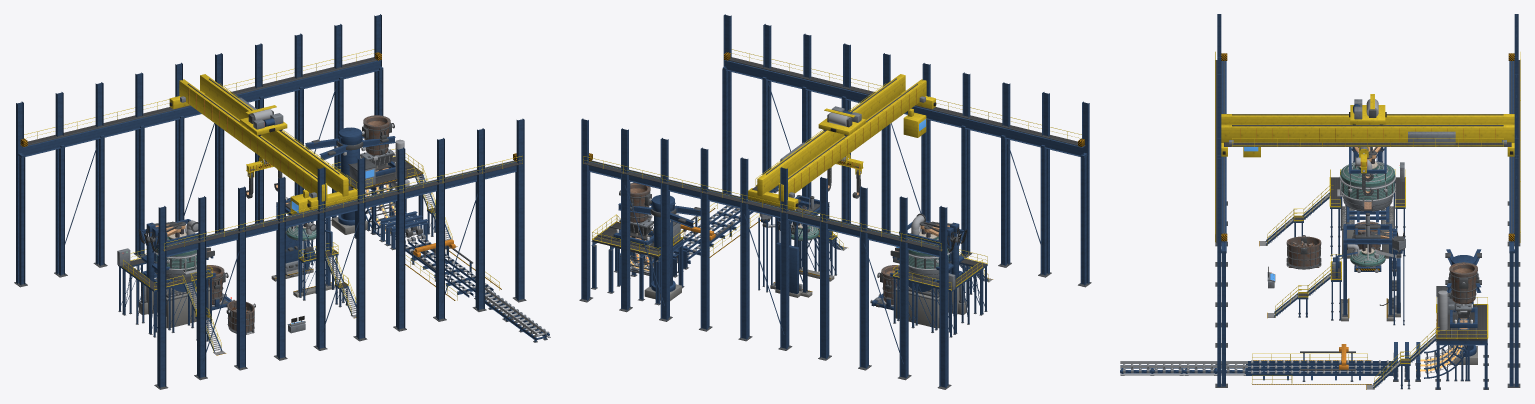
3 renders of one model, left to right at view 1: azimuth 30°, elevation 25°; view 2: azimuth 150°, elevation 25°; view 3: azimuth 270°, elevation 25°, orthographic. The views are drawn at different scales.
Parts seen in each view (by area): view 1: runway_geo, bridge_geo, CCM_geo, platform_geo, LadleFurnace_geo, turret_geo, foundation_geo, roofPivot_geo, tilt_geo, trolley_geo, Ladle_geo.001, Stairs_LF_geo (+5 smaller); view 2: runway_geo, bridge_geo, CCM_geo, LadleFurnace_geo, platform_geo, foundation_geo, roofPivot_geo, tilt_geo, turret_geo, trolley_geo, Ladle_geo.001, cabin_geo (+1 smaller); view 3: bridge_geo, runway_geo, CCM_geo, LadleFurnace_geo, tilt_geo, roofPivot_geo, platform_geo, Ladle_geo.001, ScrapBucket_geo, trolley_geo, RollerTable_geo.001, Stairs_CCM_geo (+7 smaller).
Part boxes in pixels (x1,y1,x2,y2): runway_geo: (14,14,526,389); bridge_geo: (169,74,357,209); CCM_geo: (330,139,501,300); platform_geo: (117,248,212,337); LadleFurnace_geo: (271,189,338,300); turret_geo: (305,127,395,160); foundation_geo: (139,278,212,328); roofPivot_geo: (141,219,206,282); tilt_geo: (141,247,215,291); trolley_geo: (240,105,287,136); Ladle_geo.001: (361,115,394,155); Stairs_LF_geo: (325,247,356,318); runway_geo: (579,14,1091,389); bridge_geo: (748,74,936,210); CCM_geo: (591,203,760,305); LadleFurnace_geo: (758,195,837,297); platform_geo: (893,249,987,337); foundation_geo: (893,283,966,328); roofPivot_geo: (899,213,964,279); tilt_geo: (889,247,964,291); turret_geo: (618,195,700,227); trolley_geo: (818,106,865,136); Ladle_geo.001: (619,182,651,223); cabin_geo: (903,108,926,137); bridge_geo: (1221,114,1514,156); runway_geo: (1215,14,1520,387); CCM_geo: (1246,286,1488,389); LadleFurnace_geo: (1330,213,1405,325); tilt_geo: (1337,174,1395,222); roofPivot_geo: (1340,147,1394,186); platform_geo: (1329,162,1405,256); Ladle_geo.001: (1448,262,1479,305); ScrapBucket_geo: (1286,235,1321,267); trolley_geo: (1349,94,1386,125); RollerTable_geo.001: (1120,361,1184,375); Stairs_CCM_geo: (1366,327,1439,389).
Bounding box in the file's own units: 55.76 × 26.34 × 50.17.
138 materials, 111 textured.
